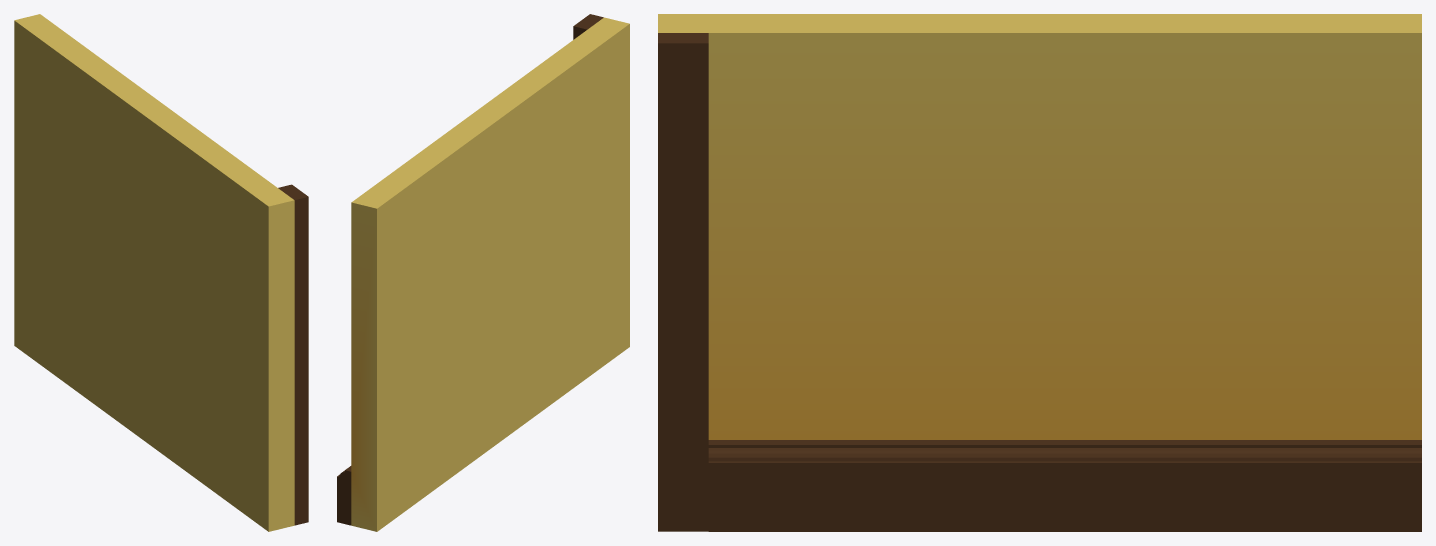
Rendered from wall.fbx.
3 renders of one model, left to right at view 1: azimuth 30°, elevation 25°; view 2: azimuth 150°, elevation 25°; view 3: azimuth 270°, elevation 25°, orthographic. The views are drawn at different scales.
Parts seen in each view (by area): view 1: Cube; view 2: Cube; view 3: Cube.
Part boxes in pixels (x1=…): Cube: x1=14, y1=14, x2=308, y2=531; Cube: x1=337, y1=14, x2=629, y2=531; Cube: x1=658, y1=14, x2=1421, y2=531.
Size of the model in its own units: 156 by 1200 by 1701.
